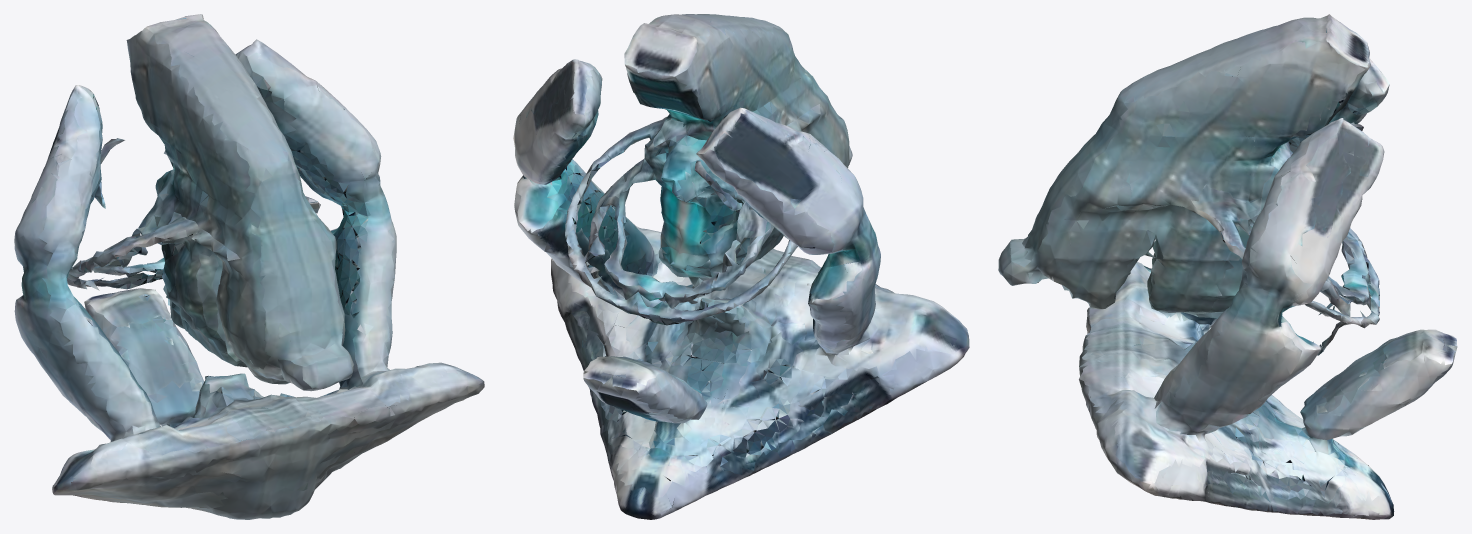
File: nexus_quantum_pylon_1792708802725.glb
The picture shows the model from 3 angles, left to right: view 1: azimuth 30°, elevation 25°; view 2: azimuth 150°, elevation 25°; view 3: azimuth 270°, elevation 25°; orthographic projection. The views are drawn at different scales.
Parts seen in each view (by area): view 1: geometry_0; view 2: geometry_0; view 3: geometry_0.
Part boxes in pixels (box(x1,y1,x2,y2)): geometry_0: box(14, 14, 484, 519); geometry_0: box(513, 14, 969, 519); geometry_0: box(998, 14, 1457, 519).
Bounding box in the file's own units: 0.8143 × 0.8788 × 0.7518.
1 material, 1 textured.
